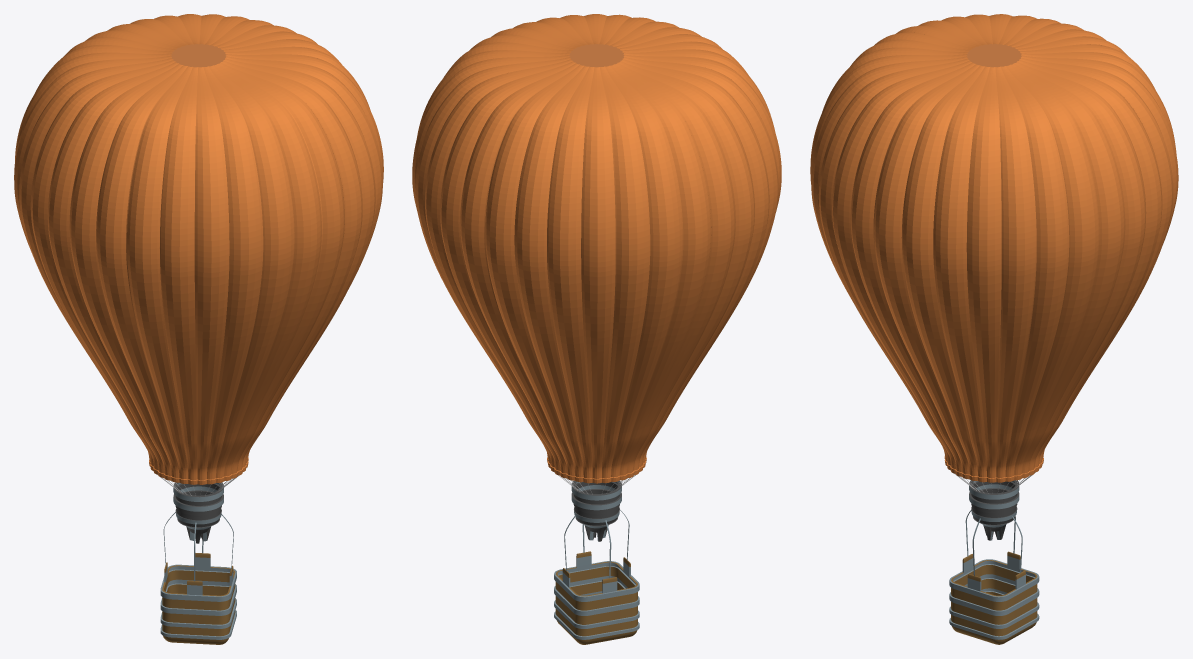
Rendered from mongolfière.fbx.
3 renders of one model, left to right at view 1: azimuth 30°, elevation 25°; view 2: azimuth 150°, elevation 25°; view 3: azimuth 270°, elevation 25°, orthographic.
Parts seen in each view (by area): view 1: pallone, cabina, motore, Cap; view 2: pallone, cabina, motore, Cap; view 3: pallone, cabina, motore, Cap.
Boxes of the visible parts, left/top/right/bottom form: pallone: left=14, top=14, right=383, bottom=484; cabina: left=160, top=553, right=236, bottom=644; motore: left=173, top=482, right=223, bottom=543; Cap: left=171, top=44, right=226, bottom=67; pallone: left=412, top=14, right=781, bottom=483; cabina: left=554, top=551, right=639, bottom=644; motore: left=571, top=480, right=621, bottom=541; Cap: left=569, top=44, right=624, bottom=67; pallone: left=810, top=14, right=1178, bottom=482; cabina: left=949, top=551, right=1039, bottom=644; motore: left=969, top=480, right=1019, bottom=540; Cap: left=967, top=44, right=1021, bottom=67.
Size of the model in its own units: 862 by 1484 by 862.
